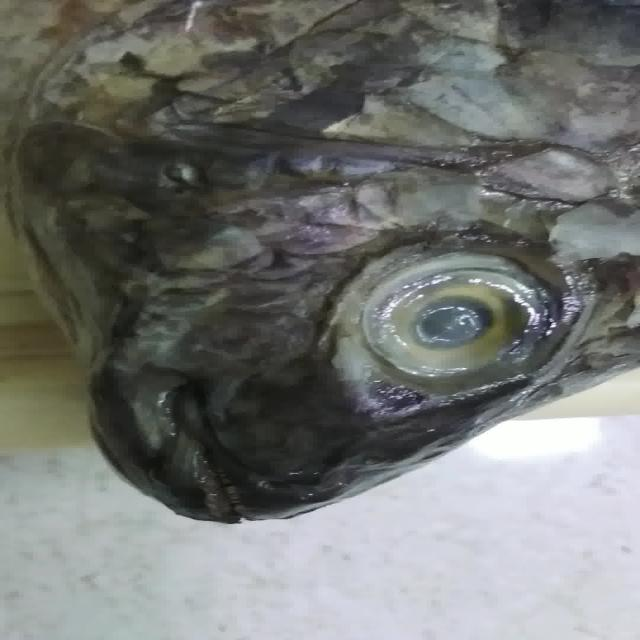Non-Fresh: (340, 242, 582, 403)
